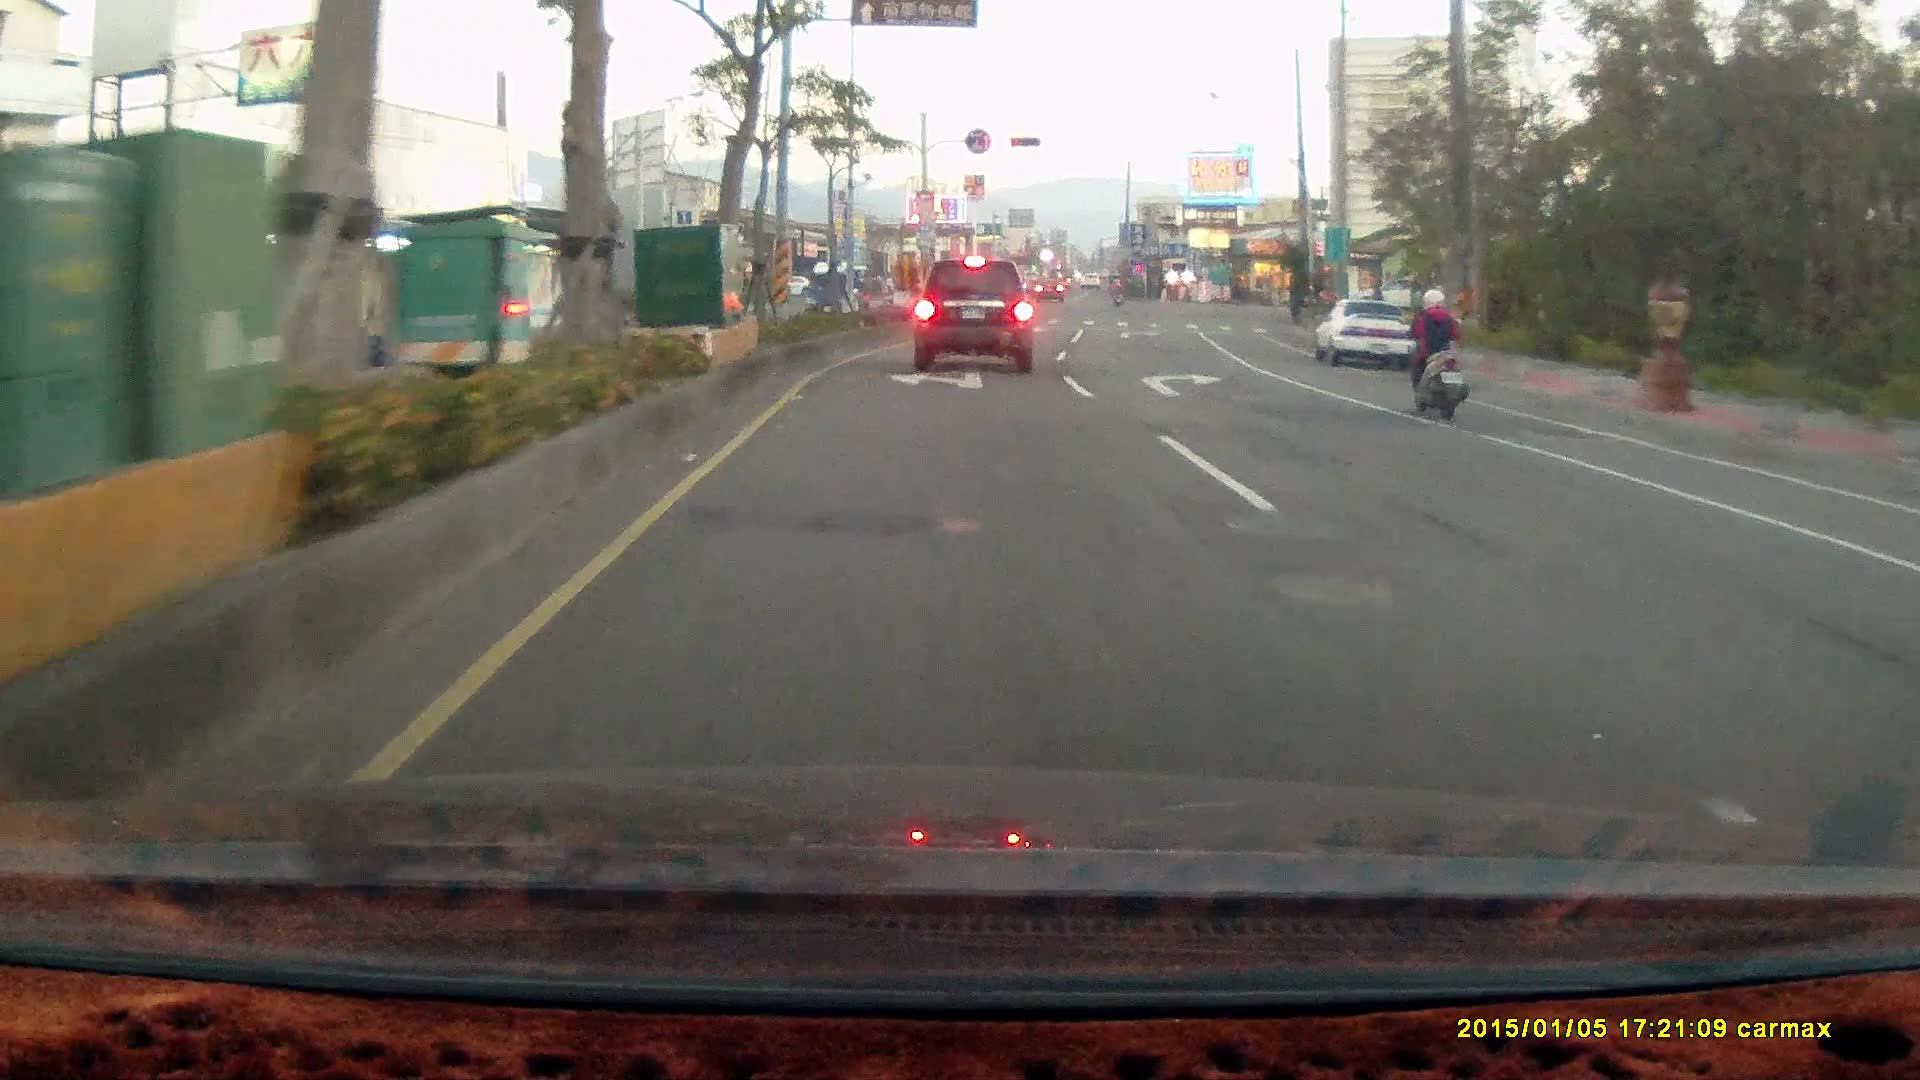rider: (1393, 276, 1471, 414)
vehicle: (911, 255, 1032, 373), (1896, 493, 1920, 836), (1316, 296, 1420, 370), (1312, 295, 1416, 369), (1883, 528, 1920, 690), (1348, 274, 1433, 311)
